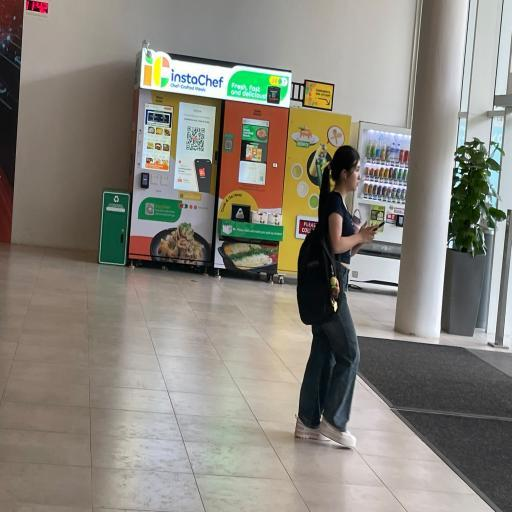person_right: (296, 144, 384, 463)
